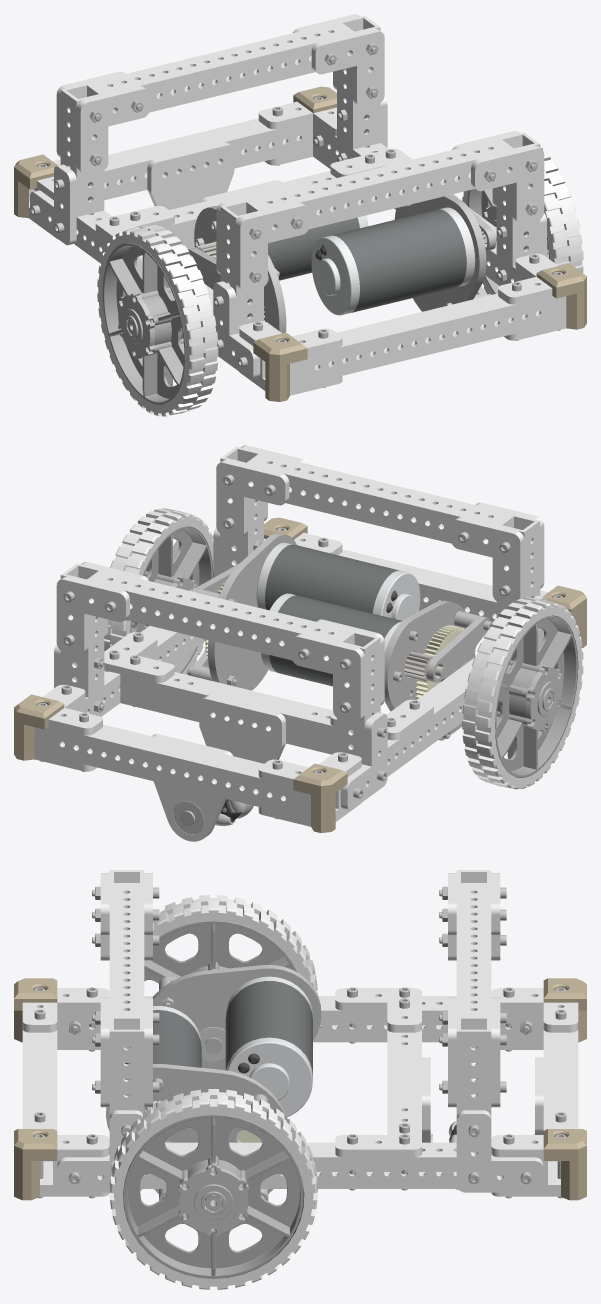
Rendered from chassis.glb.
3 views of the same model, one above another, from view 1: azimuth 30°, elevation 25°; view 2: azimuth 150°, elevation 25°; view 3: azimuth 270°, elevation 25° (orthographic). The views are drawn at different scales.
Parts seen in each view (by area): view 1: Body1, Body1:12, Body1:8, Body1:23, Body1:22, Body2; view 2: Body1, Body1:8, Body1:23, Body1:12, Body1:22, Body2, Body1:15, Body1:10, Body1:7, Body1:14; view 3: Body1, Body1:22, Body1:8, Body1:23, Body1:12, Body2, Body1:7.
Boxes of the visible parts, bbox=[...] form: Body1: bbox=[29, 14, 566, 395]; Body1:12: bbox=[191, 207, 496, 315]; Body1:8: bbox=[30, 42, 563, 387]; Body1:23: bbox=[97, 146, 583, 416]; Body1:22: bbox=[103, 188, 550, 404]; Body2: bbox=[14, 86, 586, 401]; Body1: bbox=[34, 445, 547, 841]; Body1:8: bbox=[37, 474, 563, 826]; Body1:23: bbox=[104, 508, 583, 789]; Body1:12: bbox=[256, 542, 468, 686]; Body1:22: bbox=[130, 526, 577, 777]; Body2: bbox=[14, 517, 586, 832]; Body1:15: bbox=[205, 580, 475, 698]; Body1:10: bbox=[215, 590, 397, 826]; Body1:7: bbox=[173, 801, 204, 833]; Body1:14: bbox=[404, 651, 432, 681]; Body1: bbox=[22, 870, 578, 1196]; Body1:22: bbox=[123, 921, 303, 1278]; Body1:8: bbox=[34, 886, 566, 1236]; Body1:23: bbox=[109, 895, 317, 1289]; Body1:12: bbox=[125, 976, 312, 1116]; Body2: bbox=[14, 978, 586, 1200]; Body1:7: bbox=[199, 1027, 534, 1142].
Bounding box in the file's own units: 38.52 × 19.06 × 41.91.
